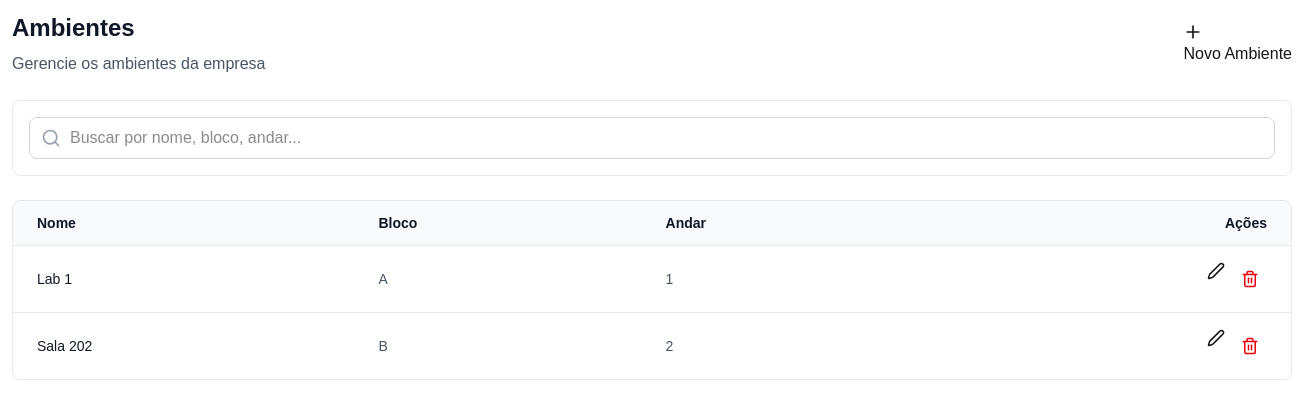
AmbientesList › filtra por nome
expect the text "Lab 1" is shown: met, box [13,246,354,312]
Type "sala" into the field with placeholder "Buscar por nome, bloco, andar..." at {"x": 652, "y": 138}, box [29,117,1275,159]
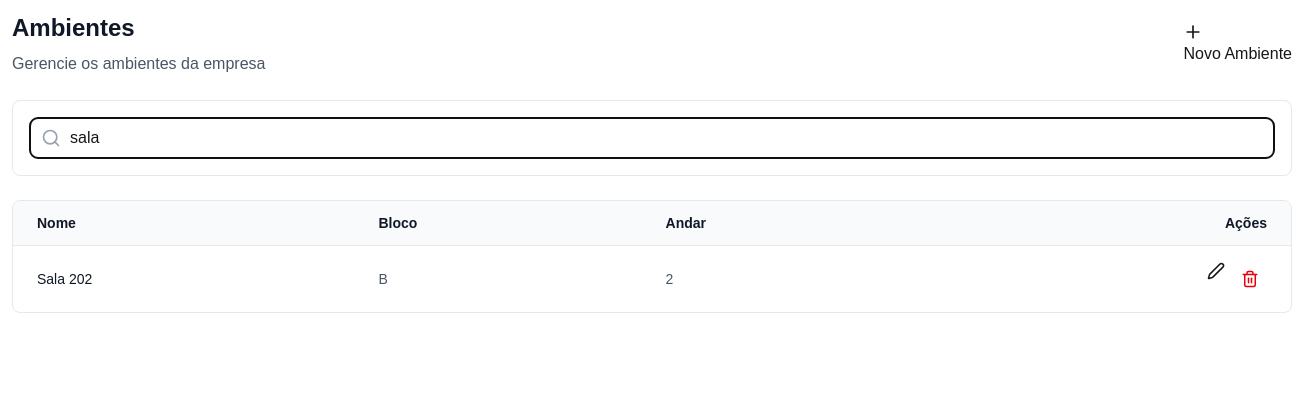
expect the text "Sala 202" is shown: met, box [13,246,354,312]
expect the text "Lab 1" is gone: met
